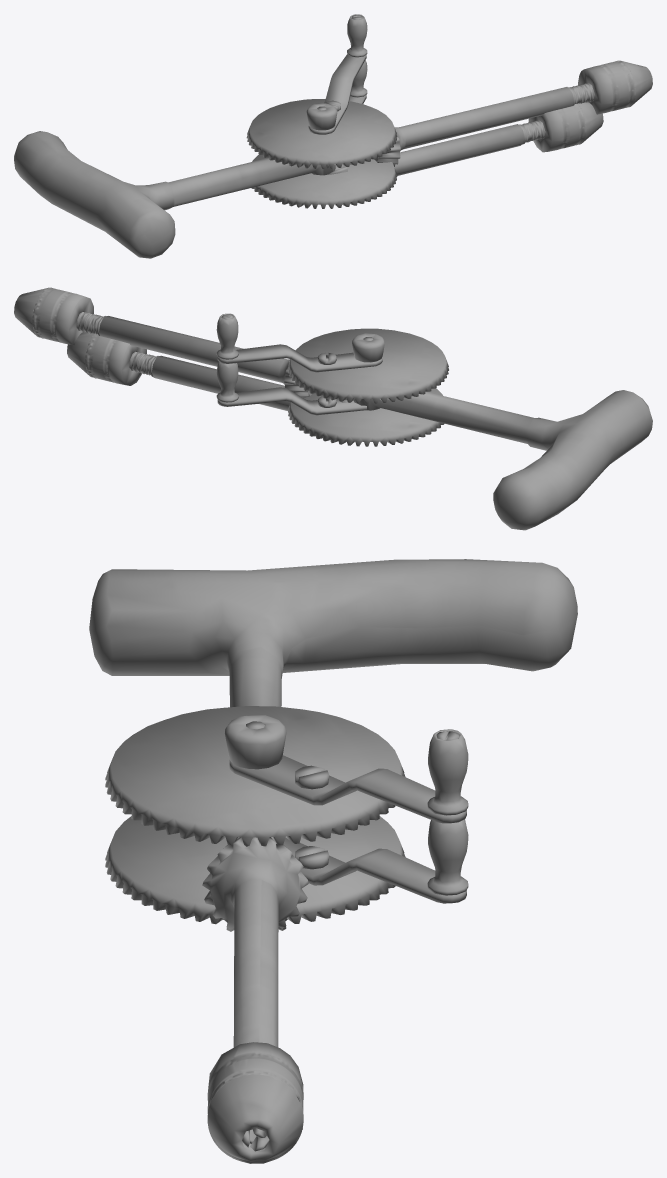
Rendered from instrument_hand_drill_b01.glb.
The picture shows the model from 3 angles, top to bottom: view 1: azimuth 30°, elevation 25°; view 2: azimuth 150°, elevation 25°; view 3: azimuth 270°, elevation 25°; orthographic projection. The views are drawn at different scales.
Visible parts, largest first — view 1: handDrill_01_mesh_00 (×2), handle_01_mesh_00, body_01_mesh_00 (×2); view 2: handDrill_01_mesh_00 (×2), handle_01_mesh_00, body_01_mesh_00 (×2); view 3: handDrill_01_mesh_00 (×2), handle_01_mesh_00, body_01_mesh_00.
Part boxes in pixels (x1=…): handDrill_01_mesh_00 (×2): x1=246, y1=14, x2=397, y2=208; handle_01_mesh_00: x1=14, y1=131, x2=350, y2=258; body_01_mesh_00 (×2): x1=328, y1=60, x2=652, y2=175; handDrill_01_mesh_00 (×2): x1=216, y1=313, x2=448, y2=446; handle_01_mesh_00: x1=353, y1=390, x2=652, y2=530; body_01_mesh_00 (×2): x1=14, y1=287, x2=353, y2=410; handDrill_01_mesh_00 (×2): x1=105, y1=706, x2=468, y2=924; handle_01_mesh_00: x1=89, y1=559, x2=577, y2=843; body_01_mesh_00: x1=202, y1=837, x2=308, y2=1161.
Size of the model in its own units: 0.2927 by 0.0664 by 0.1094.
Materials: 3 (3 with a texture image).
